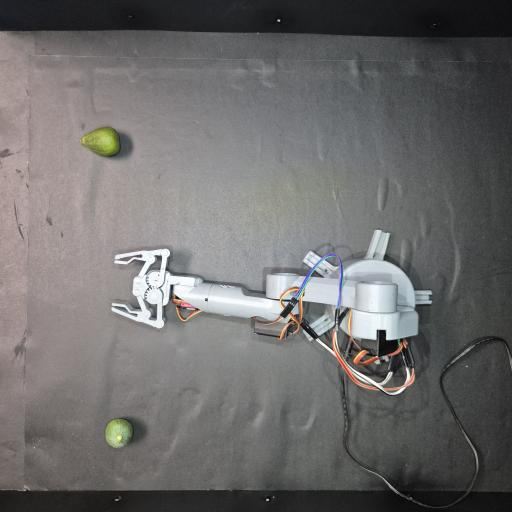higo: (81, 126, 120, 156), (106, 419, 133, 447)
